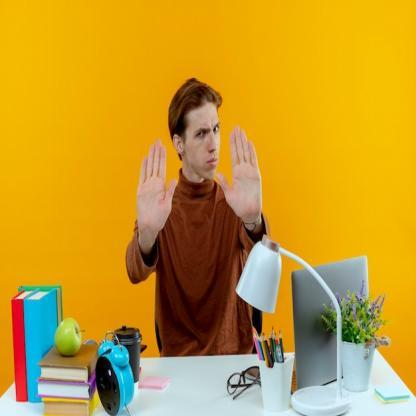stop: (215, 124, 272, 226), (137, 136, 180, 238)
